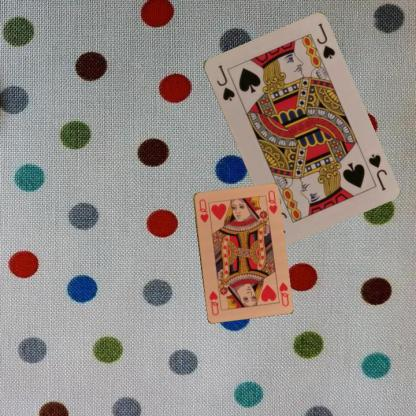Js: (365, 151, 388, 192), (214, 62, 236, 102)
Qh: (196, 196, 210, 224), (276, 280, 290, 307)
